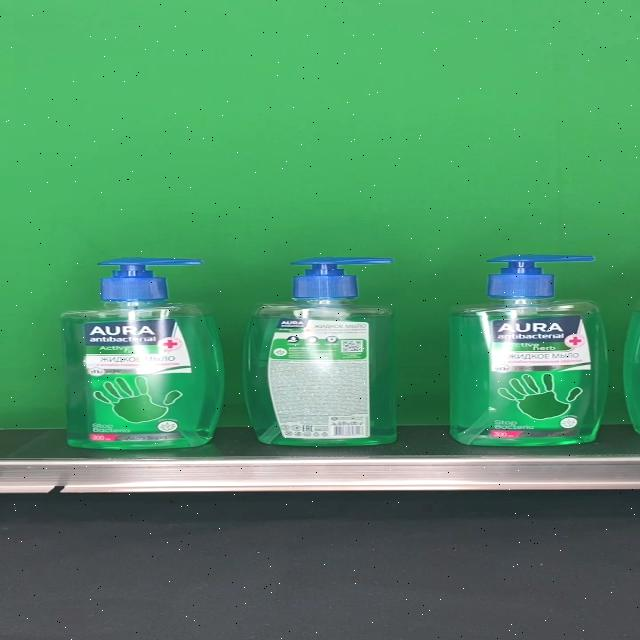Bottle: (58, 258, 225, 449), (449, 255, 607, 446), (243, 256, 397, 446)
Cap: (484, 255, 594, 298), (98, 258, 202, 302), (290, 257, 392, 299)
